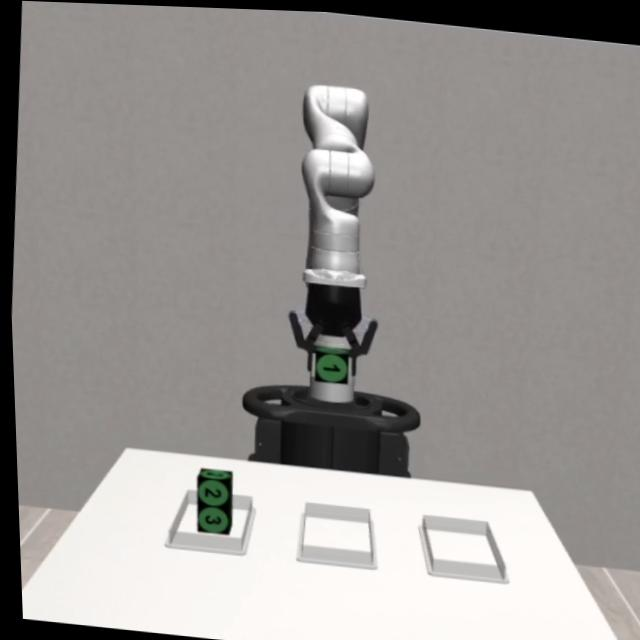cube1: (309, 342, 347, 384)
cube2: (189, 463, 230, 505)
cube3: (191, 502, 230, 534)
